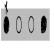correct: (40, 13, 47, 36)
no answer: (15, 10, 23, 36), (28, 11, 34, 36)
not correct: (4, 0, 10, 36)
